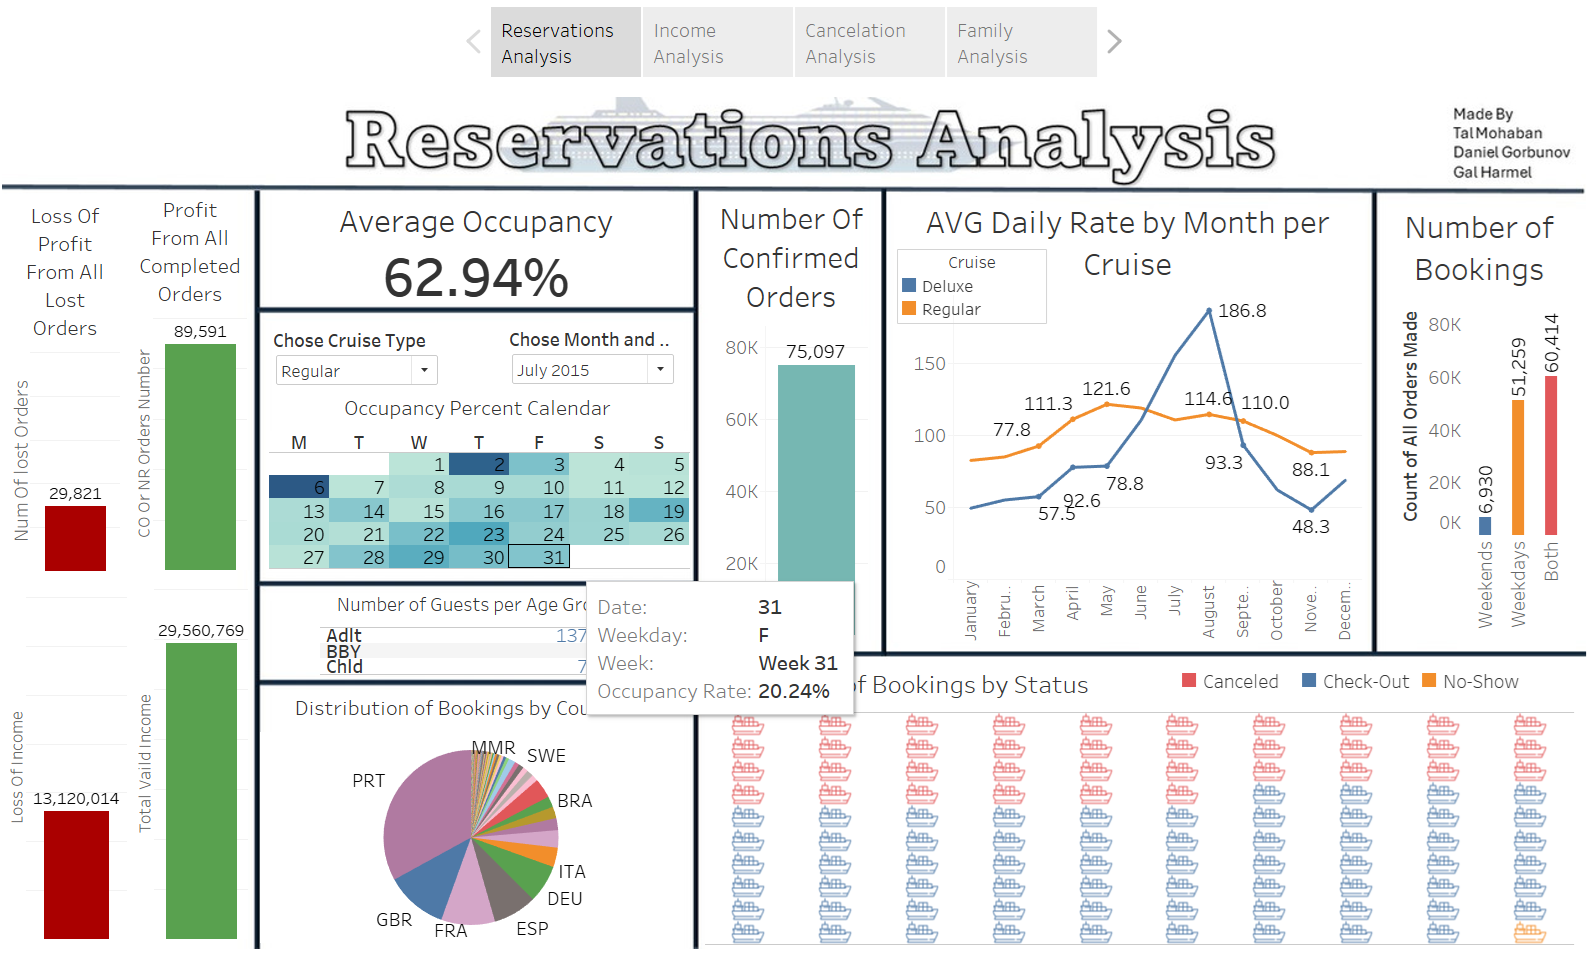

What the dashboard file says about the page in this screenshot:
{"tool":"tableau","page":{"name":"Reservations Dashboard","canvas":[1580,850],"ordinal":4},"visuals":[{"type":"worksheet","title":"Profit From All Completed Orders","mark":"Automatic","box":[131,94,114,379]},{"type":"worksheet","title":"Num Of Confirmed Orders","mark":"Automatic","rows":["Calculation_1327436010007629826"],"box":[712,97,154,441]},{"type":"worksheet","title":"Average Occupancy","mark":"Automatic","box":[256,98,436,102]},{"type":"worksheet","title":"AVG Daily Rate by Month per Cruise","mark":"Line","rows":["DailyAVG"],"cols":["M"],"box":[891,99,469,446]},{"type":"worksheet","title":"Loss Of Profits From All Lost Orders","mark":"Automatic","box":[8,100,110,374]},{"type":"worksheet","title":"Number of Weekends or Weekdays Booked","mark":"Automatic","rows":["Calculation_2354256727182086147"],"cols":["Calculation_416864472390332417"],"box":[1388,104,178,434]},{"type":"legend","title":"AVG Daily Rate by Month per Cruise","param":"[federated.1ogpqxy1h1m0yn12gcw3o0dju587 (copy)].[none:cruise:nk]","box":[895,152,150,75]},{"type":"filter","title":"Occupancy Percent Calendar ","param":"[federated.1ogpqxy1h1m0yn12gcw3o0dju587 (copy)].[my:statD:ok]","box":[507,229,168,61]},{"type":"filter","title":"Occupancy Percent Calendar ","param":"[federated.1ogpqxy1h1m0yn12gcw3o0dju587 (copy)].[none:cruise:nk]","box":[271,230,168,61]},{"type":"worksheet","title":"Occupancy Percent Calendar ","mark":"Square","rows":["statD"],"cols":["statD"],"box":[267,292,421,180]},{"type":"worksheet","title":"All Cruise Participants Count By Age","mark":"Automatic","box":[318,490,311,88]},{"type":"worksheet","title":"Profit From All Completed Orders (2)","mark":"Automatic","box":[132,492,114,350]},{"type":"worksheet","title":"Loss Of Profits From All Lost Orders1","mark":"Automatic","rows":["Calculation_761952780715208707"],"box":[4,500,121,342]},{"type":"worksheet","title":"Percentage of Bookings by Status","mark":"Shape","rows":["Rows"],"cols":["Columns"],"box":[703,566,869,282]},{"type":"legend","title":"Percentage of Bookings by Status","param":"[federated.1ogpqxy1h1m0yn12gcw3o0dju587 (copy)].[usr:Calculation_723672198036033","box":[1175,571,398,44]},{"type":"worksheet","title":" Distribution of Booking by Countries","mark":"Pie","box":[258,592,422,254]}]}

Visuals, with their boxes on the page's 1580x850 design canvas (x1, y1, x2, y2). These are canvas units, not pixel positions in the 1588x971 screenshot, which may show the page scaled, cropped or inside an application window:
"Profit From All Completed Orders" worksheet: <box>131,94,245,473</box>
"Num Of Confirmed Orders" worksheet: <box>712,97,866,538</box>
"Average Occupancy" worksheet: <box>256,98,692,200</box>
"AVG Daily Rate by Month per Cruise" worksheet (Line marks): <box>891,99,1360,545</box>
"Loss Of Profits From All Lost Orders" worksheet: <box>8,100,118,474</box>
"Number of Weekends or Weekdays Booked" worksheet: <box>1388,104,1566,538</box>
"AVG Daily Rate by Month per Cruise" legend: <box>895,152,1045,227</box>
"Occupancy Percent Calendar " filter: <box>507,229,675,290</box>
"Occupancy Percent Calendar " filter: <box>271,230,439,291</box>
"Occupancy Percent Calendar " worksheet (Square marks): <box>267,292,688,472</box>
"All Cruise Participants Count By Age" worksheet: <box>318,490,629,578</box>
"Profit From All Completed Orders (2)" worksheet: <box>132,492,246,842</box>
"Loss Of Profits From All Lost Orders1" worksheet: <box>4,500,125,842</box>
"Percentage of Bookings by Status" worksheet (Shape marks): <box>703,566,1572,848</box>
"Percentage of Bookings by Status" legend: <box>1175,571,1573,615</box>
" Distribution of Booking by Countries" worksheet (Pie marks): <box>258,592,680,846</box>
